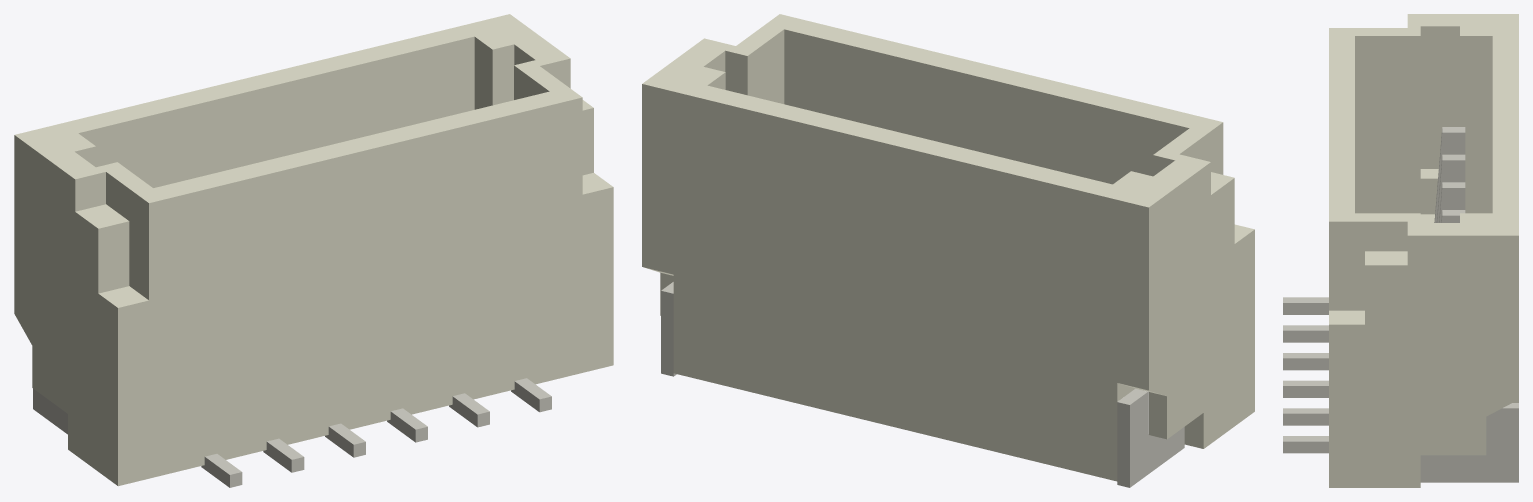
File: kc-jst_sh_bm06b-srss-tb_1x06-1mp_p1.00mm_vertical.glb
3 views of the same model, side by side, from view 1: azimuth 30°, elevation 25°; view 2: azimuth 150°, elevation 25°; view 3: azimuth 270°, elevation 25° (orthographic). The views are drawn at different scales.
Parts seen in each view (by area): view 1: 0.75_0.75_0.6666666666666666_0, 0.6666666666666666_0.6666666666666666_0.5833333333333334_0.8; view 2: 0.75_0.75_0.6666666666666666_0, 0.6666666666666666_0.6666666666666666_0.5833333333333334_0.8; view 3: 0.75_0.75_0.6666666666666666_0, 0.6666666666666666_0.6666666666666666_0.5833333333333334_0.8.
Boxes of the visible parts, left/top/right/bottom form: 0.75_0.75_0.6666666666666666_0: left=14, top=14, right=613, bottom=486; 0.6666666666666666_0.6666666666666666_0.5833333333333334_0.8: left=33, top=378, right=551, bottom=487; 0.75_0.75_0.6666666666666666_0: left=642, top=14, right=1254, bottom=481; 0.6666666666666666_0.6666666666666666_0.5833333333333334_0.8: left=661, top=282, right=1184, bottom=487; 0.75_0.75_0.6666666666666666_0: left=1329, top=14, right=1518, bottom=487; 0.6666666666666666_0.6666666666666666_0.5833333333333334_0.8: left=1283, top=127, right=1518, bottom=482.
Bounding box in the file's own units: 0.8 × 0.432 × 0.36.
